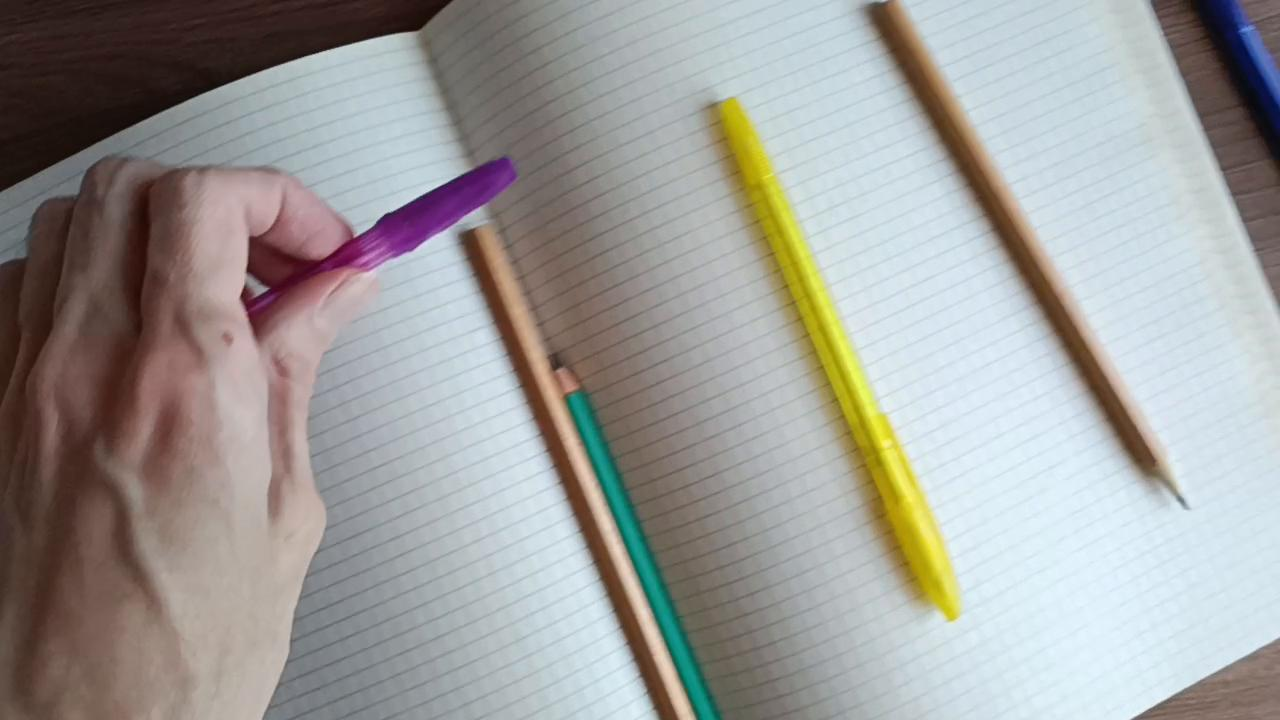pen: (704, 92, 969, 633), (236, 154, 524, 344), (1199, 0, 1280, 184)
pencil: (873, 0, 1188, 513), (454, 229, 696, 720), (556, 356, 728, 720)
